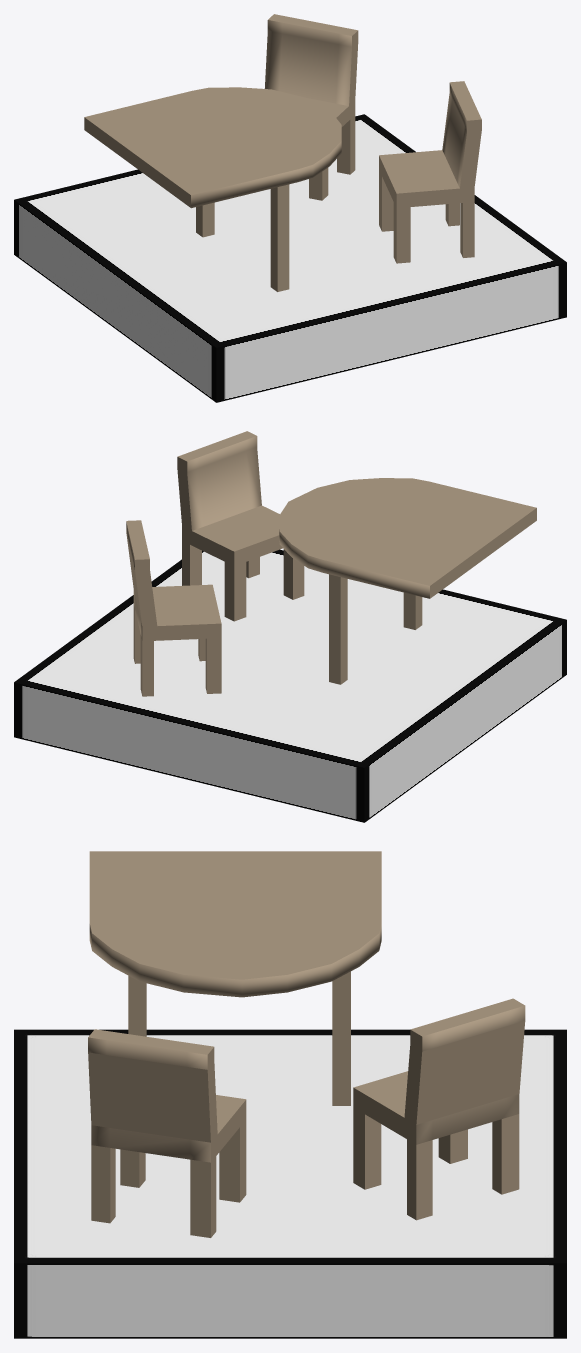
The model's file is tile_table_1.gltf.
3 views of the same model, one above another, from view 1: azimuth 30°, elevation 25°; view 2: azimuth 150°, elevation 25°; view 3: azimuth 270°, elevation 25° (orthographic). The views are drawn at different scales.
Parts seen in each view (by area): view 1: tile_table_1; view 2: tile_table_1; view 3: tile_table_1.
Part boxes in pixels (x1,y1,x2,y2): tile_table_1: (14,14,566,402); tile_table_1: (14,431,566,822); tile_table_1: (14,851,566,1338).
Size of the model in its own units: 2 by 1.05 by 2.
2 materials, 1 textured.
